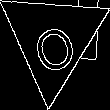O_NW: (25, 7, 81, 72)
